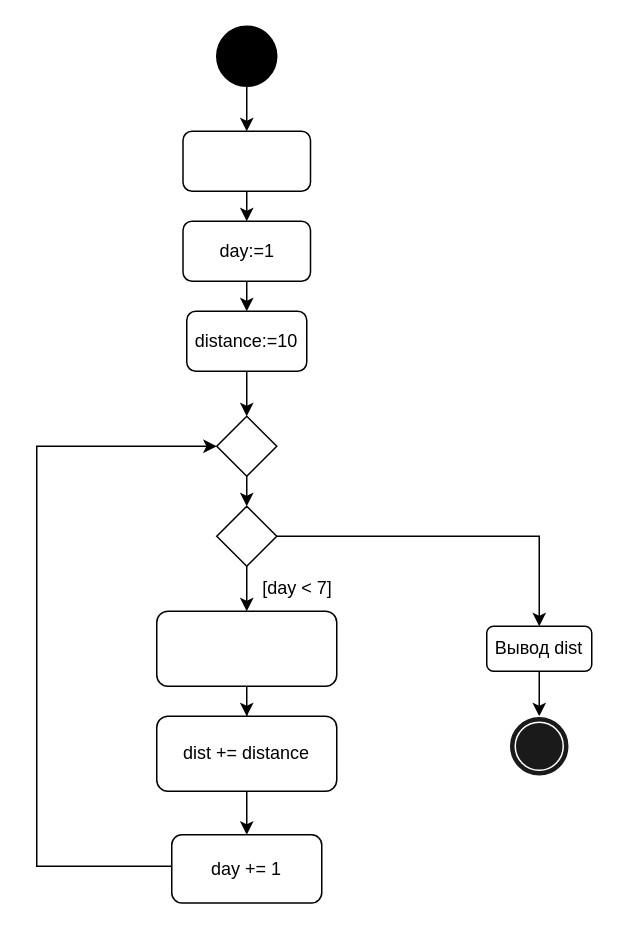
The diagram is 618 pixels wide and 930 high, and some of its shapes have lost their labels. The centre of each missing label's shape, as x and y in pixels:
"dist:= 0" belongs at (x=246, y=160).
"distance += ((distance/10)*100)" belongs at (x=246, y=648).
